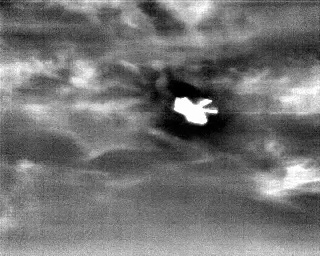HELICOPTER: (171, 92, 222, 131)
